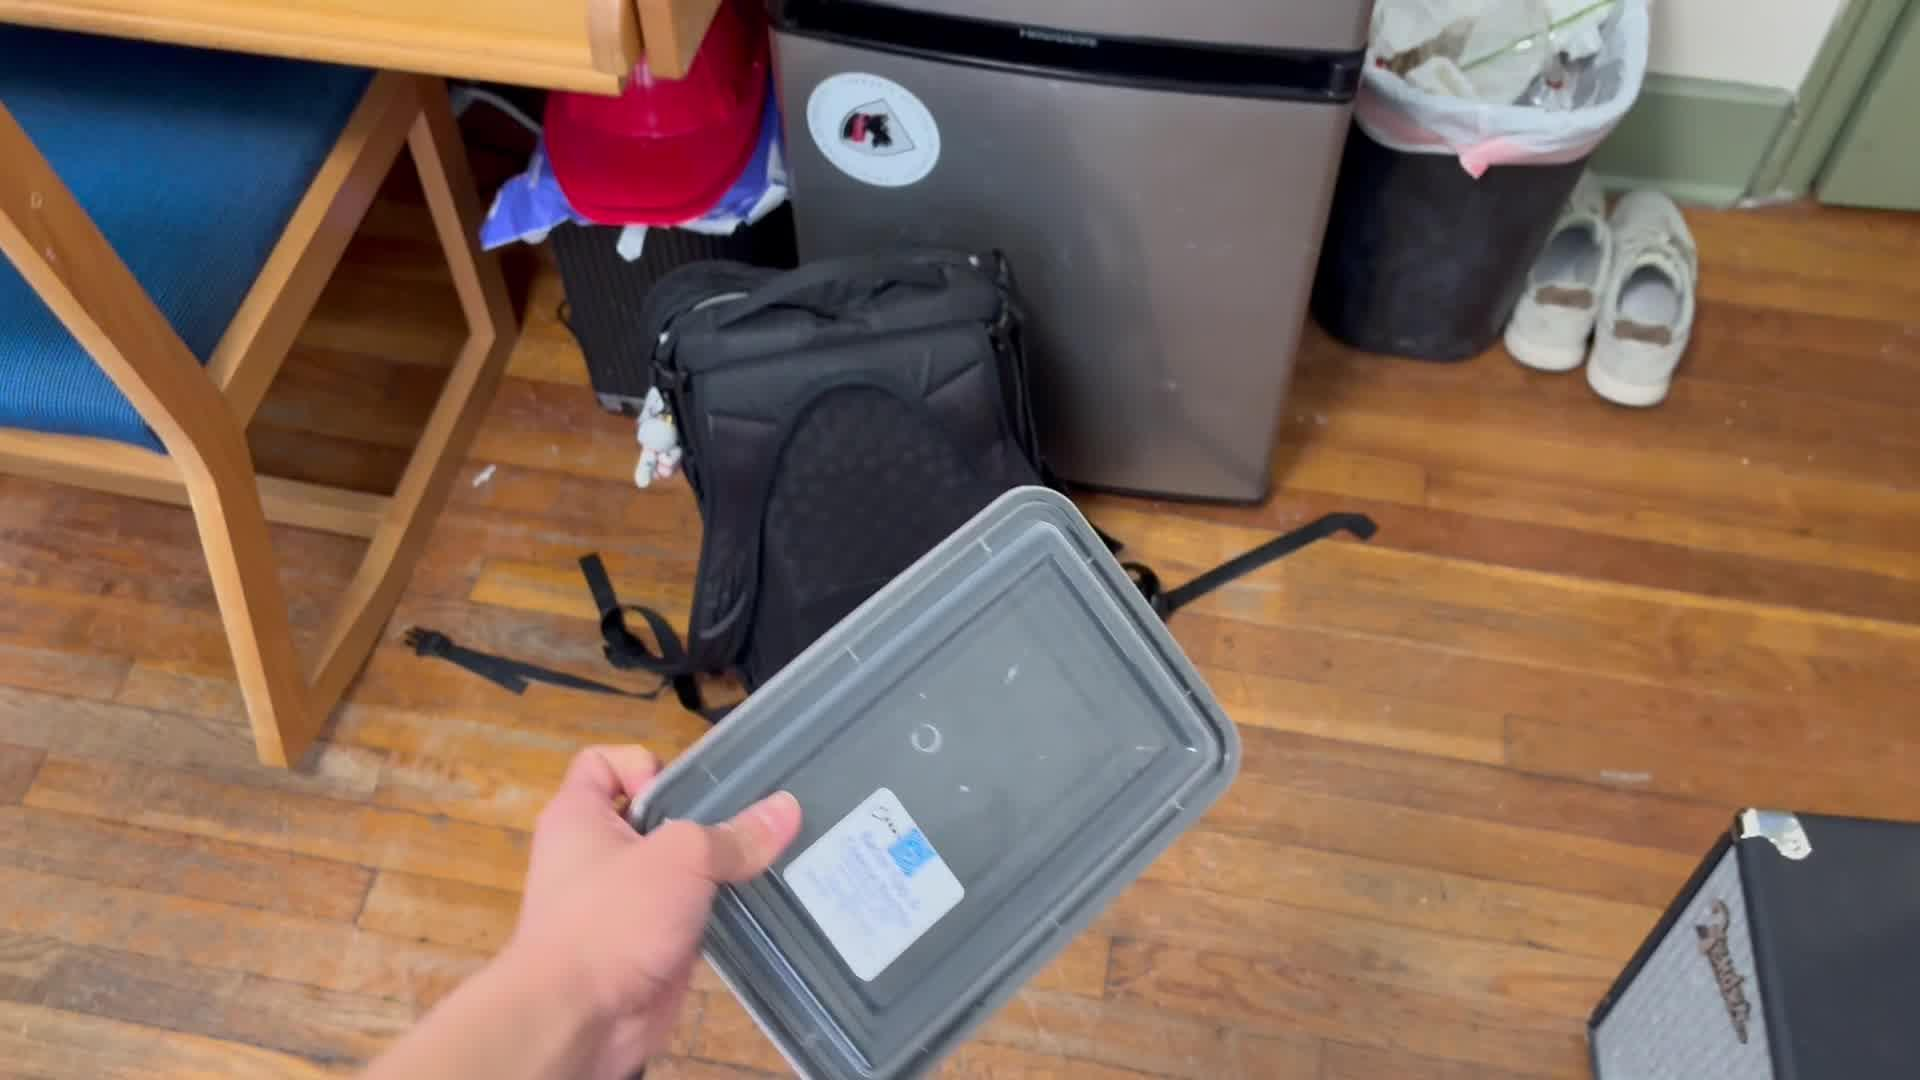lp_cup_lids: (625, 491, 1230, 1077)
